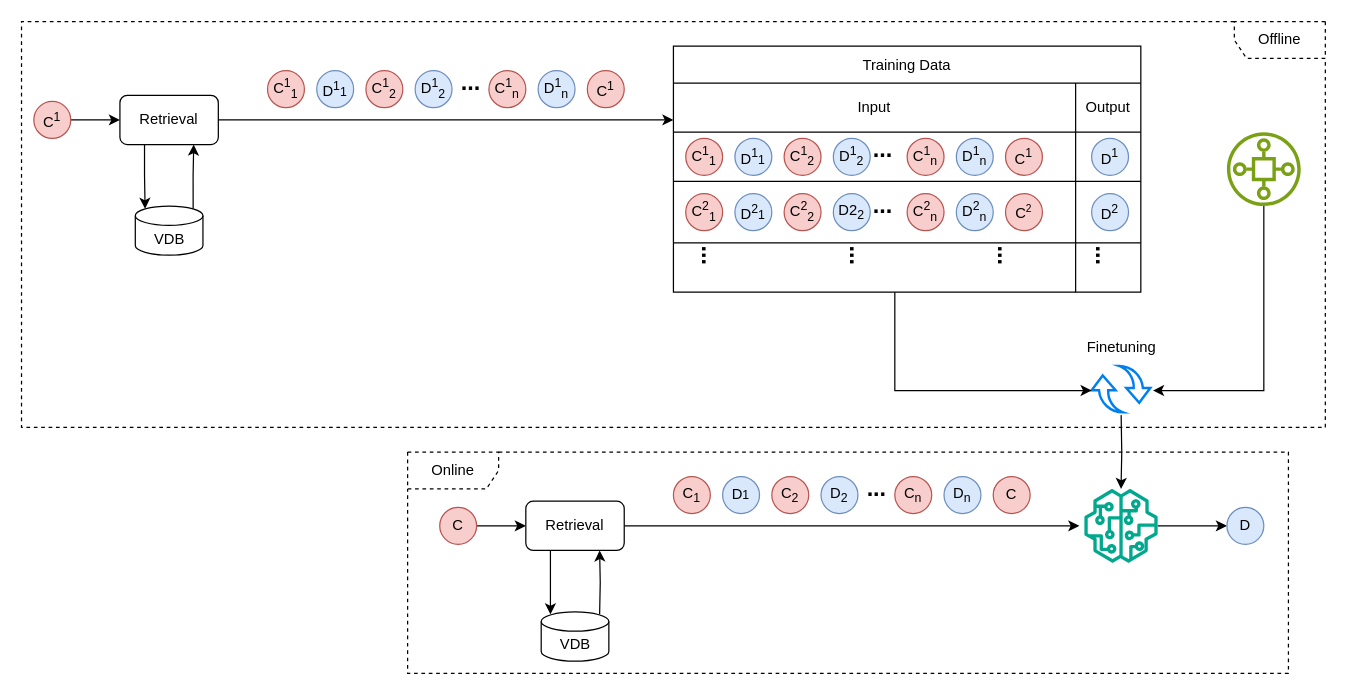
This 1347x695 diagram has some shape labels left out. The shapes that lost their labels are listed below. From the top down, each one's centre as x and y in pixels, then its label:
At [1263,168]: "Pretrained LLM".
At [1120,525]: "Finetuned LLM".
